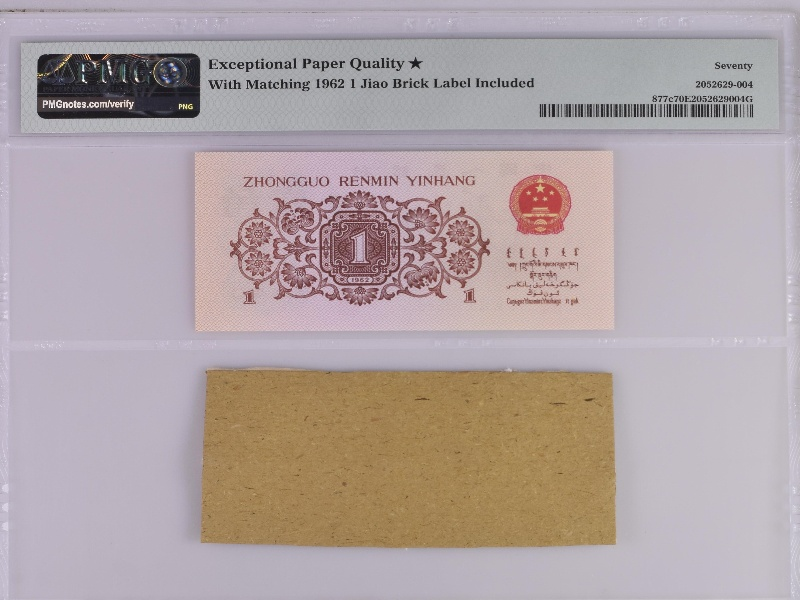papernote: (193, 150, 617, 330)
